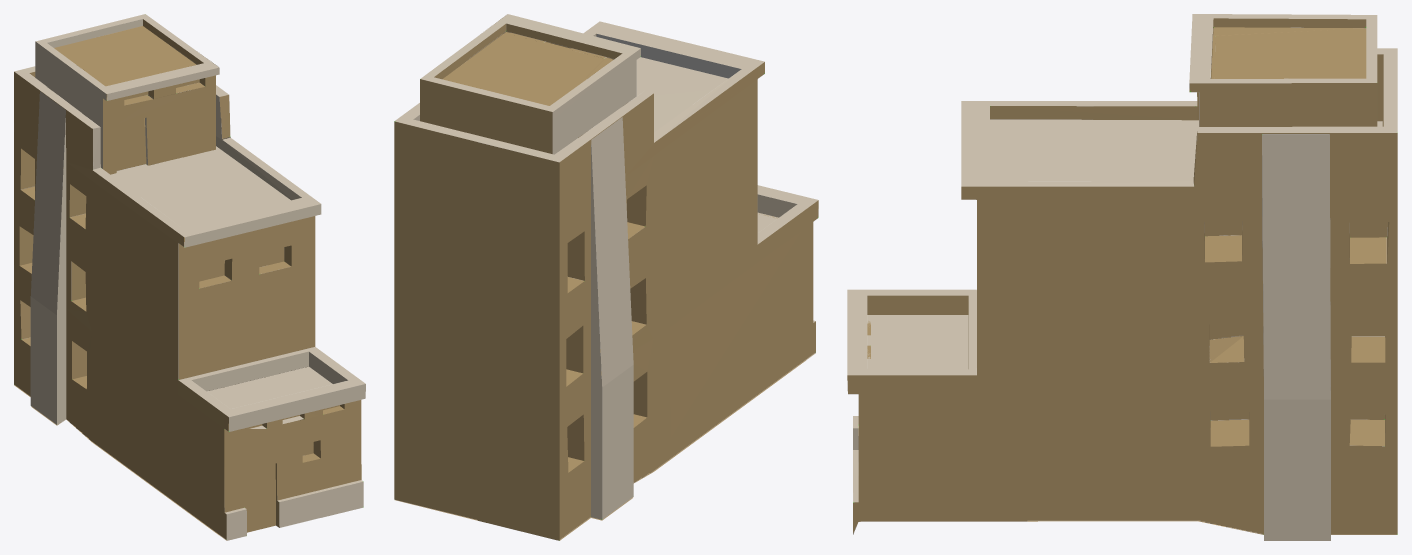
3 views of the same model, side by side, from view 1: azimuth 30°, elevation 25°; view 2: azimuth 150°, elevation 25°; view 3: azimuth 270°, elevation 25° (orthographic). The views are drawn at different scales.
Visible parts, largest first — view 1: Box001; view 2: Box001; view 3: Box001.
Boxes of the visible parts, left/top/right/bottom form: Box001: left=14, top=14, right=365, bottom=540; Box001: left=394, top=14, right=818, bottom=540; Box001: left=847, top=14, right=1397, bottom=540.
Size of the model in its own units: 87.94 by 187 by 210.
Materials: 1 (1 with a texture image).
